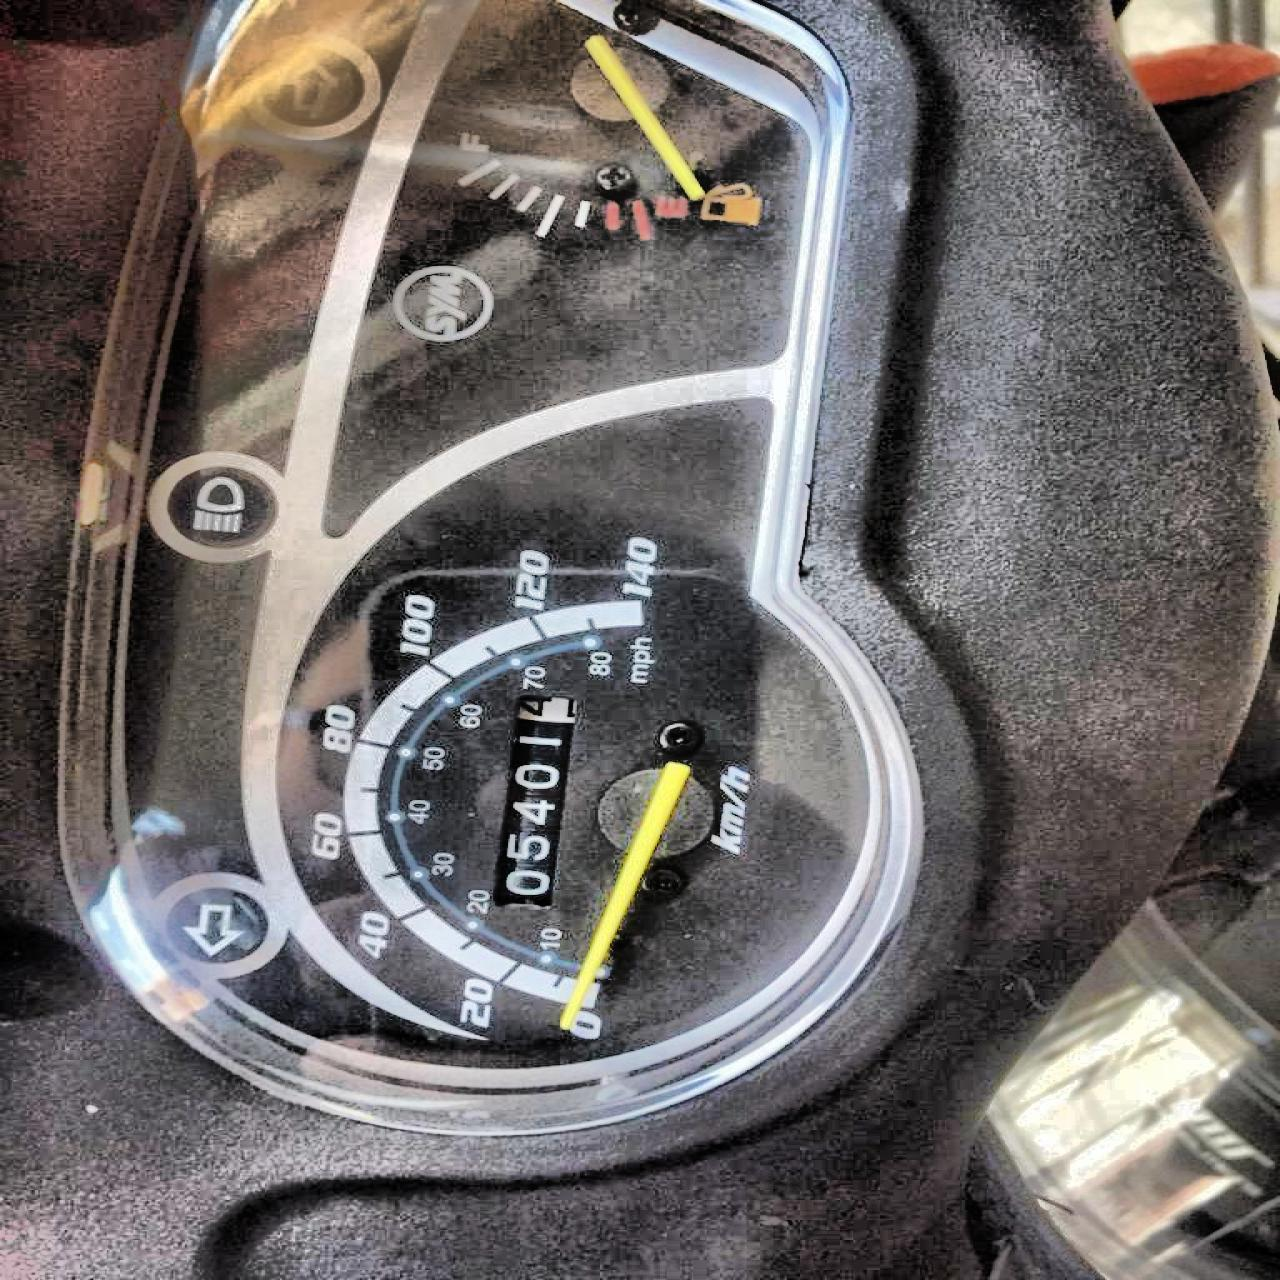0: (509, 760, 561, 790), (501, 867, 550, 894)
1: (509, 729, 565, 750)
4: (506, 795, 557, 826), (513, 693, 554, 717)
5: (499, 831, 549, 862)
odometer: (485, 690, 580, 911)
